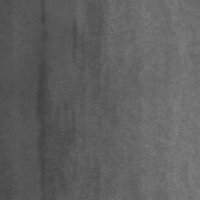inclusion: (25, 3, 67, 196), (66, 14, 83, 75)
